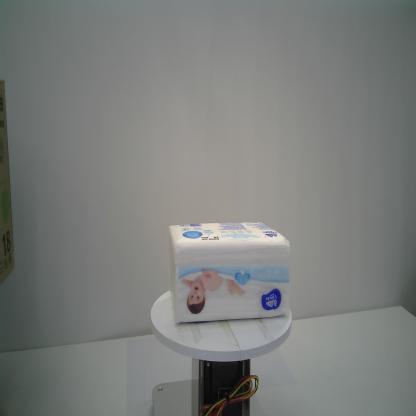Tissue: (168, 222, 291, 324)
